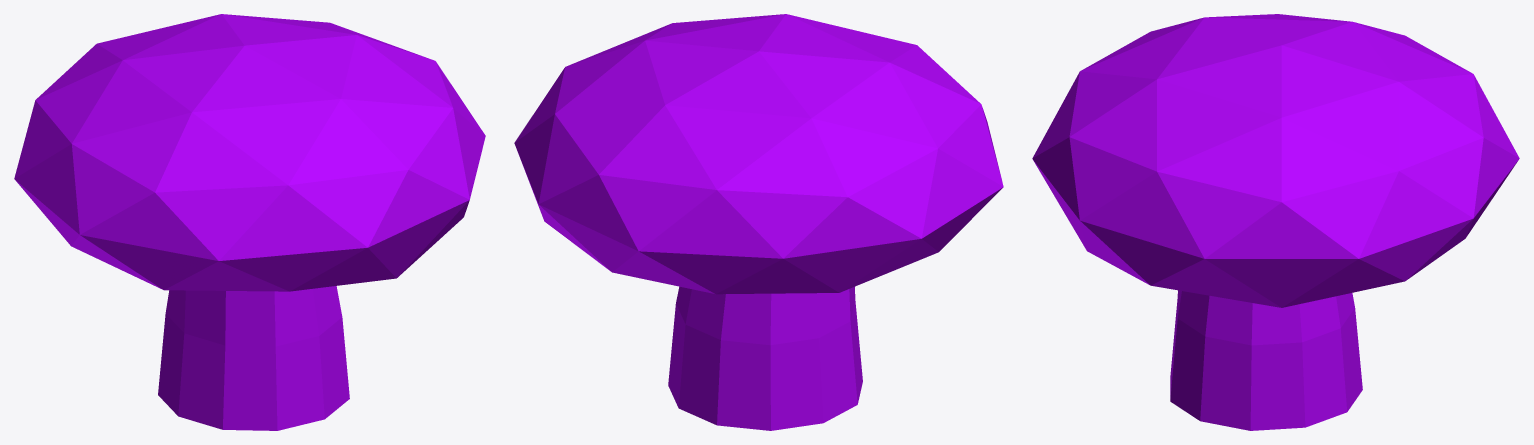
The model's file is mushroom.glb.
3 views of the same model, side by side, from view 1: azimuth 30°, elevation 25°; view 2: azimuth 150°, elevation 25°; view 3: azimuth 270°, elevation 25° (orthographic).
Parts seen in each view (by area): view 1: Mush.001; view 2: Mush.001; view 3: Mush.001.
Boxes of the visible parts, left/top/right/bottom form: Mush.001: left=14, top=14, right=485, bottom=430; Mush.001: left=514, top=14, right=1003, bottom=430; Mush.001: left=1032, top=14, right=1519, bottom=430.
Size of the model in its own units: 0.4605 by 0.3681 by 0.4729.
